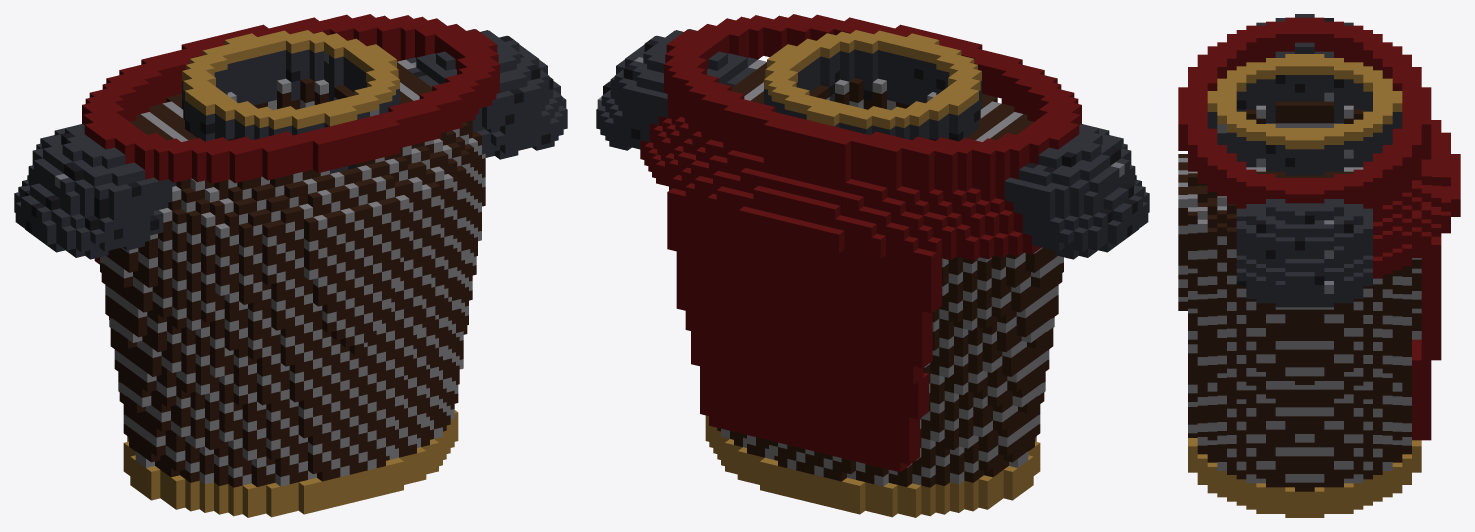
Rendered from ring_sewn_jack.glb.
3 views of the same model, side by side, from view 1: azimuth 30°, elevation 25°; view 2: azimuth 150°, elevation 25°; view 3: azimuth 270°, elevation 25° (orthographic). The views are drawn at different scales.
Parts seen in each view (by area): view 1: ring_sewn_jack; view 2: ring_sewn_jack; view 3: ring_sewn_jack.
Part boxes in pixels (box(x1,y1,x2,y2)): ring_sewn_jack: box(14, 14, 567, 517); ring_sewn_jack: box(596, 14, 1149, 517); ring_sewn_jack: box(1178, 14, 1460, 517).
Bounding box in the file's own units: 0.684 × 0.48 × 0.348.
